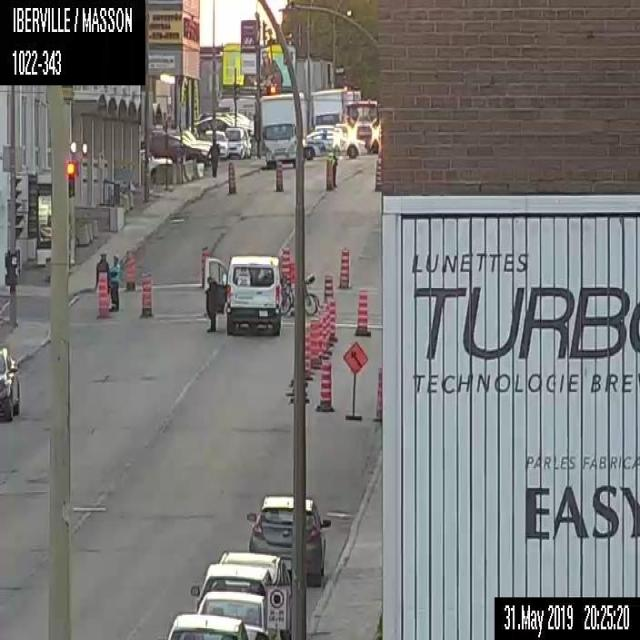construction: (341, 339, 368, 420), (315, 366, 334, 413), (354, 286, 370, 334), (93, 272, 109, 317), (309, 318, 322, 370), (123, 248, 137, 293), (336, 242, 350, 286), (140, 272, 153, 319), (370, 361, 379, 419), (279, 242, 292, 282), (321, 272, 334, 307), (324, 154, 336, 190), (320, 314, 328, 359), (227, 161, 235, 192), (274, 161, 282, 191), (373, 163, 381, 192), (329, 302, 334, 343)
pedestrian: (204, 275, 217, 333), (107, 254, 120, 310), (94, 247, 110, 277), (209, 137, 218, 176)
vehicle: (202, 253, 294, 335), (249, 495, 331, 583), (188, 559, 287, 599), (197, 590, 276, 628), (258, 91, 296, 169), (298, 120, 359, 162), (141, 133, 208, 168), (164, 611, 245, 639), (0, 340, 21, 419), (226, 123, 248, 160)
